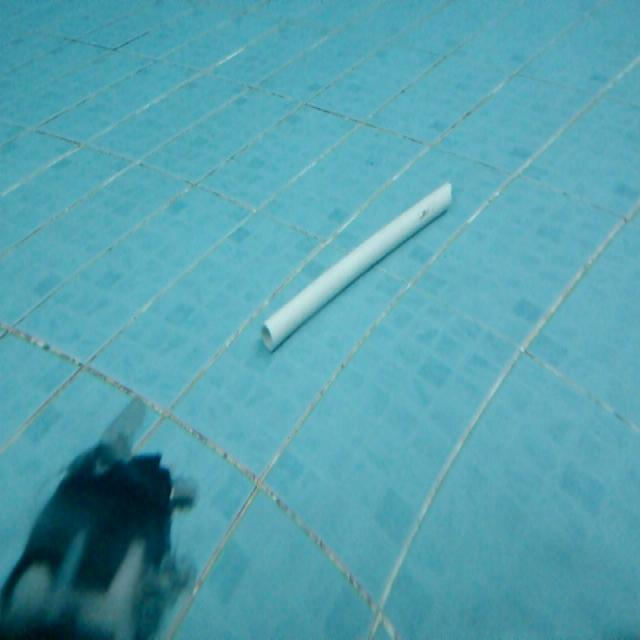Cube: (257, 176, 455, 355)
